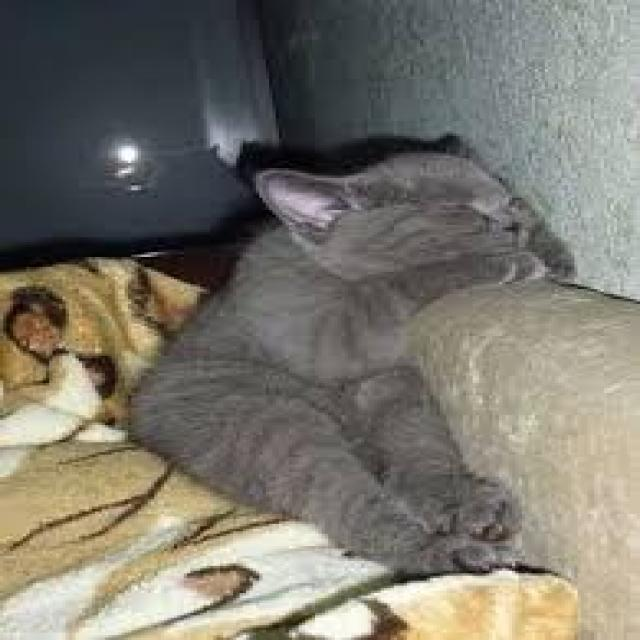Cat: (112, 145, 550, 581)
